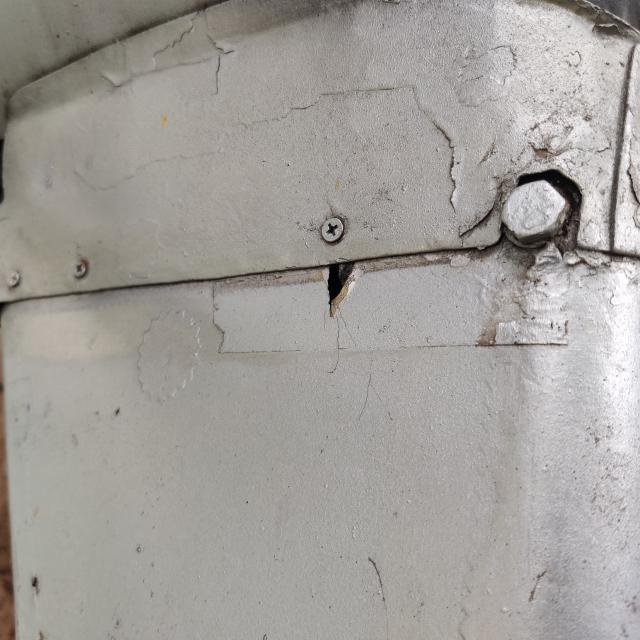Crack: (329, 262, 364, 316)
